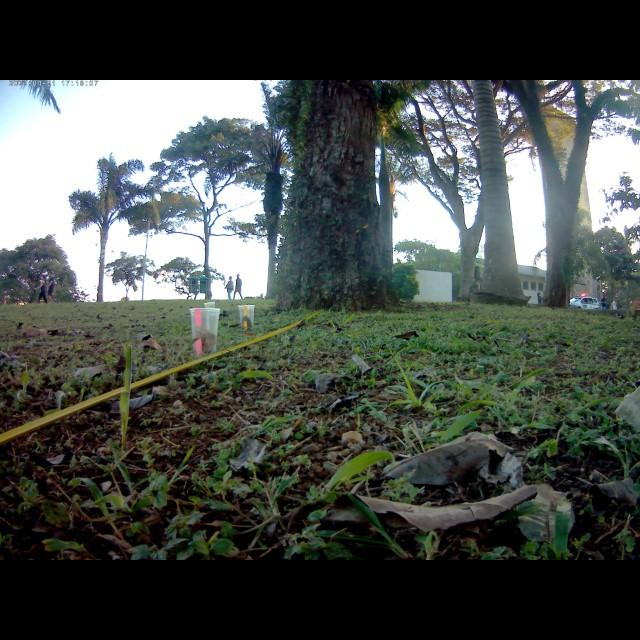arvore: (261, 80, 407, 316)
